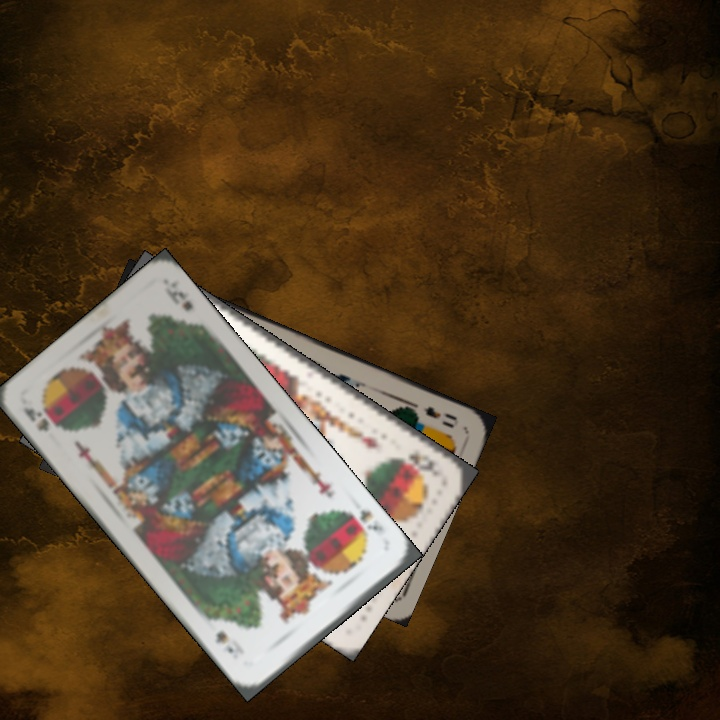EO: (407, 399, 460, 431)
SK: (342, 505, 387, 544), (19, 403, 61, 435), (404, 448, 442, 478)
